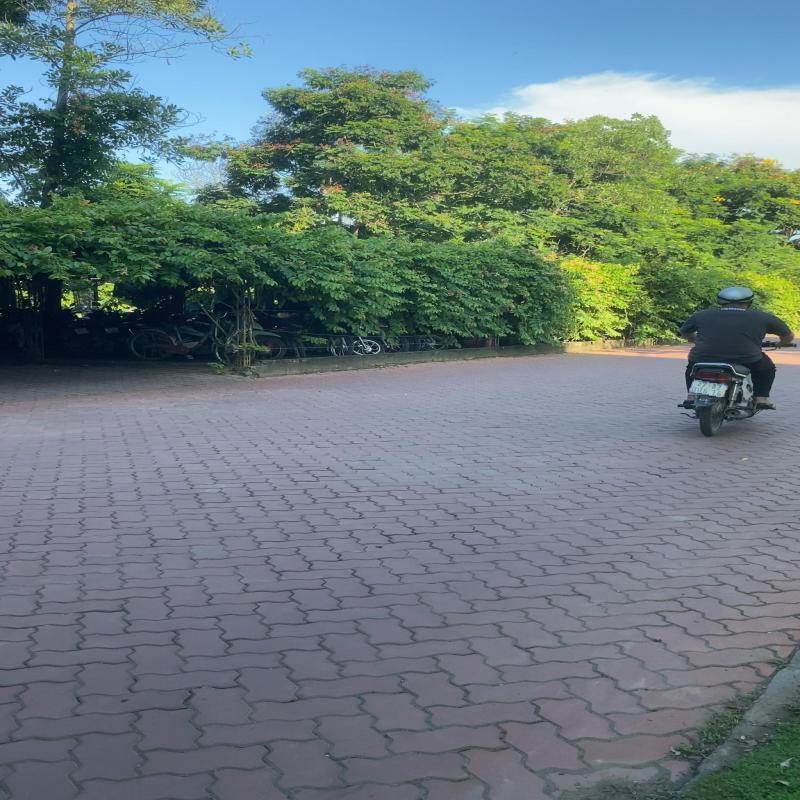helmet: (714, 286, 757, 306)
licenseplate: (688, 379, 728, 399)
motorcyclist: (676, 285, 798, 438)
